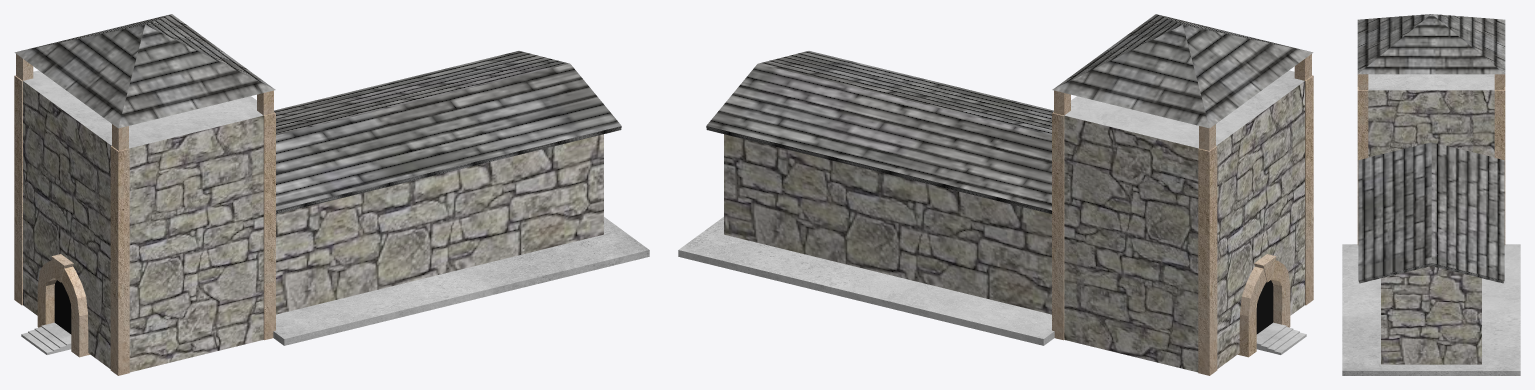
Rendered from WarehouseModel.dae.
3 views of the same model, side by side, from view 1: azimuth 30°, elevation 25°; view 2: azimuth 150°, elevation 25°; view 3: azimuth 270°, elevation 25° (orthographic). The views are drawn at different scales.
Visible parts, largest first — view 1: Cube; view 2: Cube; view 3: Cube.
Boxes of the visible parts, x1=… form: Cube: x1=14, y1=14, x2=649, y2=375; Cube: x1=678, y1=14, x2=1313, y2=375; Cube: x1=1342, y1=14, x2=1520, y2=375.
Bounding box in the file's own units: 49.78 × 19.57 × 25.5.
